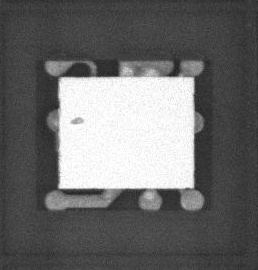DIE_INK: (66, 121, 81, 132)
